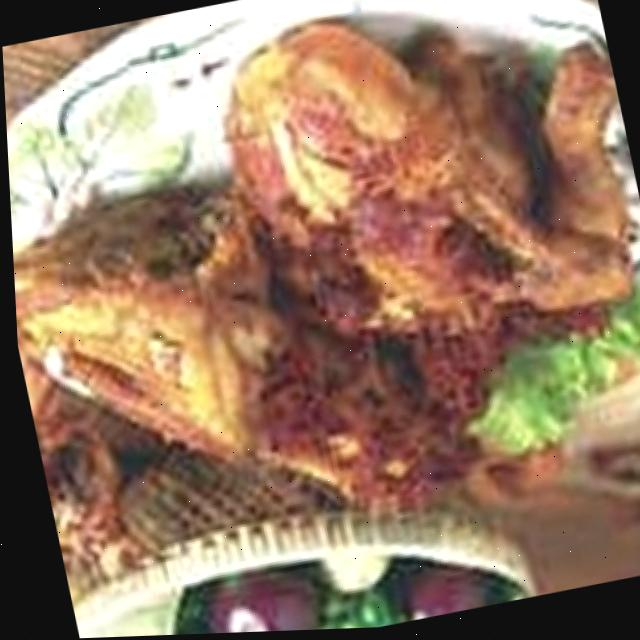鸡肉料理 含炸鸡: (34, 0, 640, 600)
